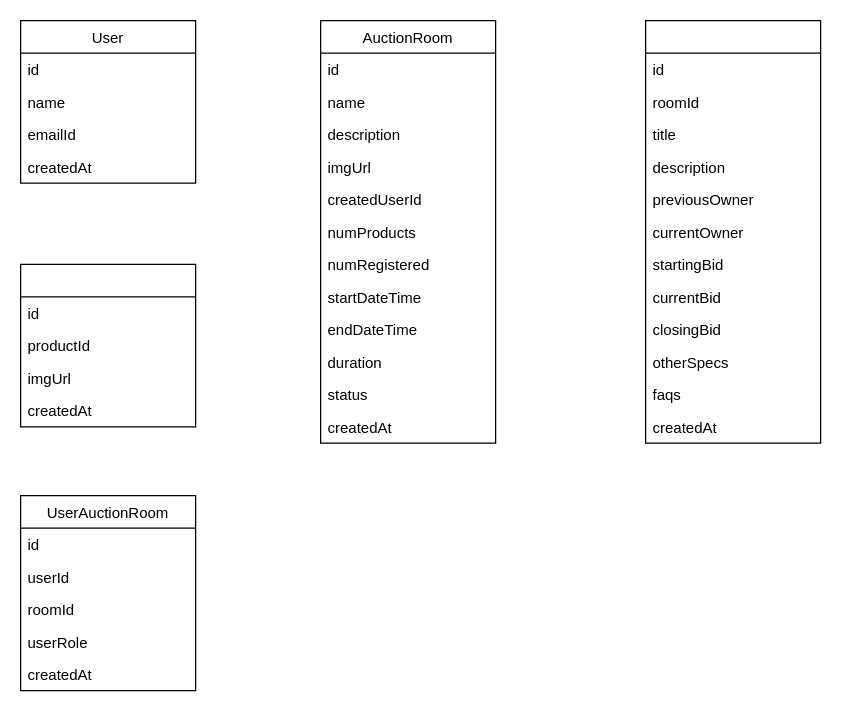
This 841x711 diagram has some shape labels left out. Here are the shapes that lost their labels. From the top down, the box of each, then its label:
(644, 19, 821, 443): Products
(19, 263, 196, 427): ProductImage
